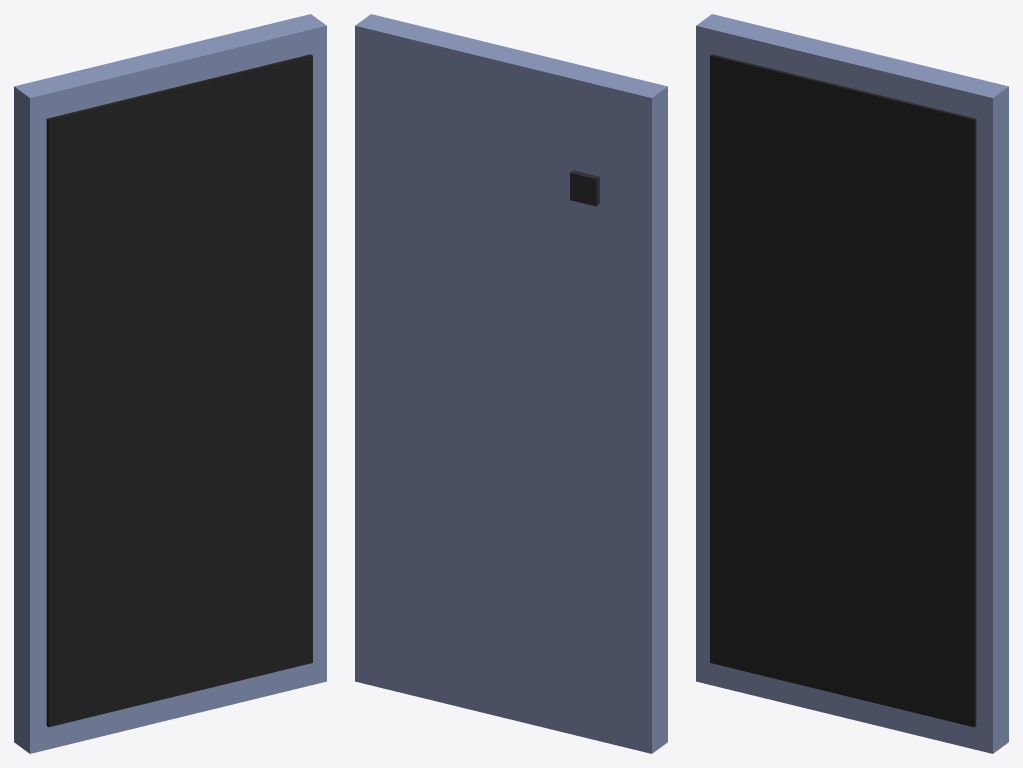
File: iphone-16.glb
3 renders of one model, left to right at view 1: azimuth 30°, elevation 25°; view 2: azimuth 150°, elevation 25°; view 3: azimuth 330°, elevation 25°, orthographic.
Visible parts, largest first — view 1: tela, corpo; view 2: corpo, lente-0; view 3: tela, corpo.
Part boxes in pixels (left/top/right/bottom): tela: left=46, top=54, right=312, bottom=727; corpo: left=14, top=14, right=326, bottom=753; corpo: left=355, top=14, right=667, bottom=753; lente-0: left=570, top=170, right=599, bottom=206; tela: left=710, top=54, right=976, bottom=727; corpo: left=696, top=14, right=1008, bottom=753.
Bounding box in the file's own units: 0.7956 × 1.68 × 0.1009.
